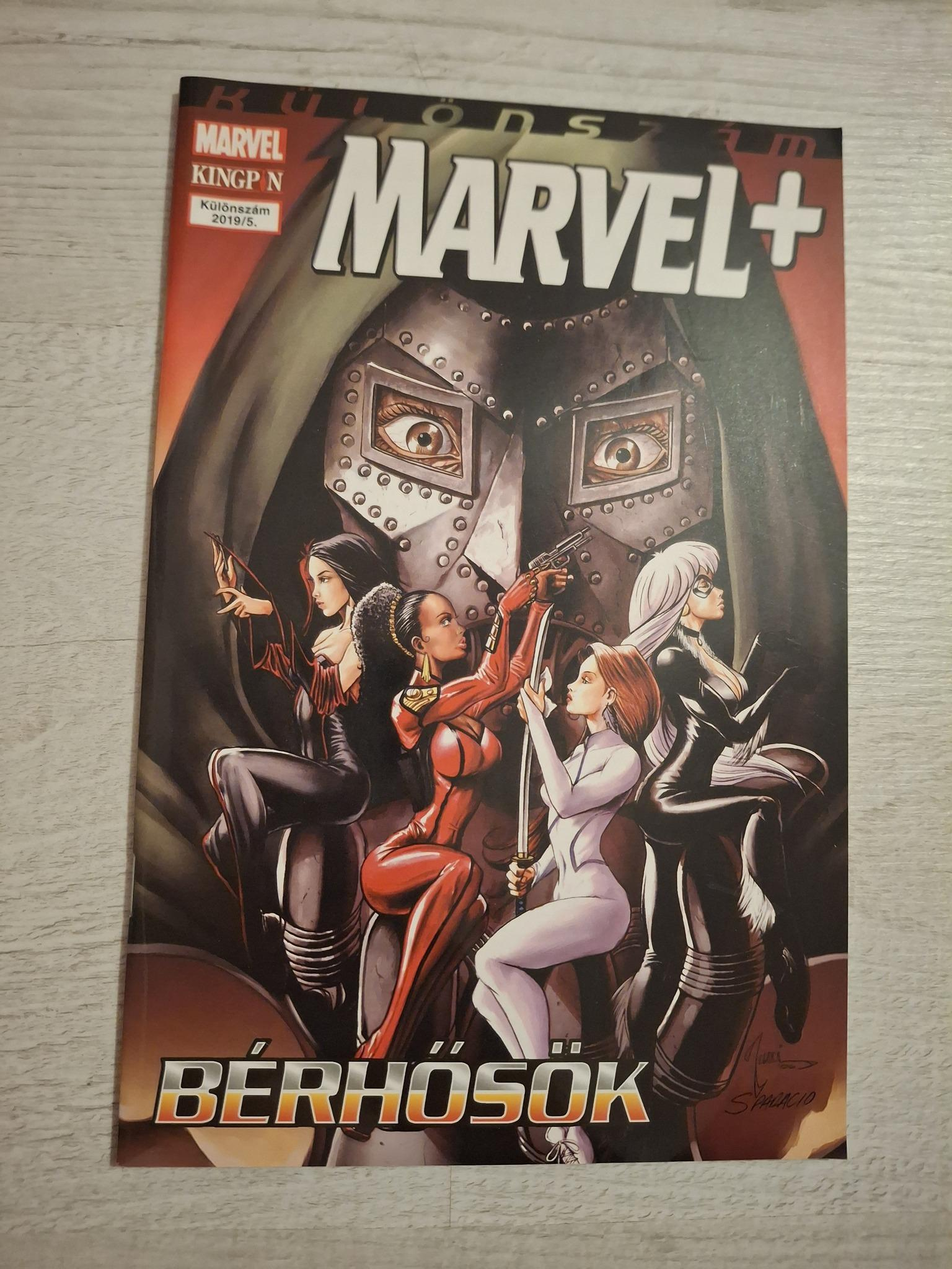comic: (118, 77, 884, 1192)
